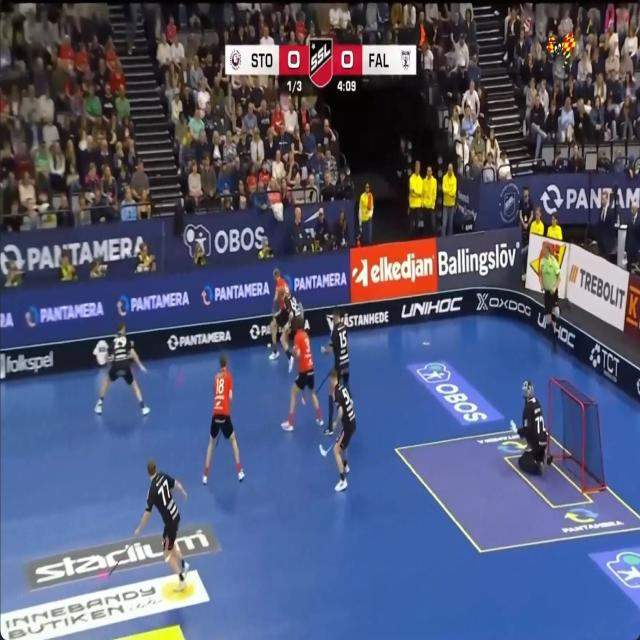player: (134, 458, 188, 588), (203, 354, 244, 484), (95, 323, 150, 414), (281, 317, 323, 431), (510, 380, 553, 474), (329, 369, 355, 490), (539, 241, 560, 348), (321, 309, 349, 388), (279, 287, 303, 372), (270, 268, 289, 360), (325, 385, 334, 434)
stick: (108, 556, 122, 577), (317, 371, 330, 390), (319, 444, 331, 456), (214, 431, 221, 449), (510, 420, 517, 433), (122, 544, 130, 554), (139, 363, 147, 372)
